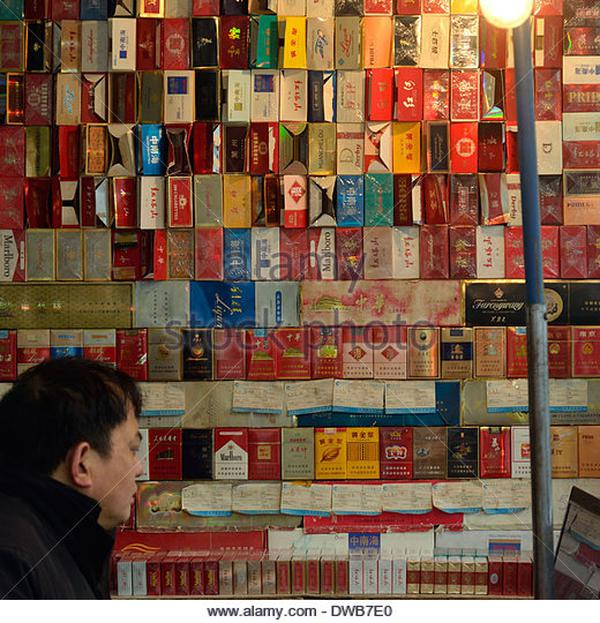marlboro_red: (214, 431, 247, 479)
